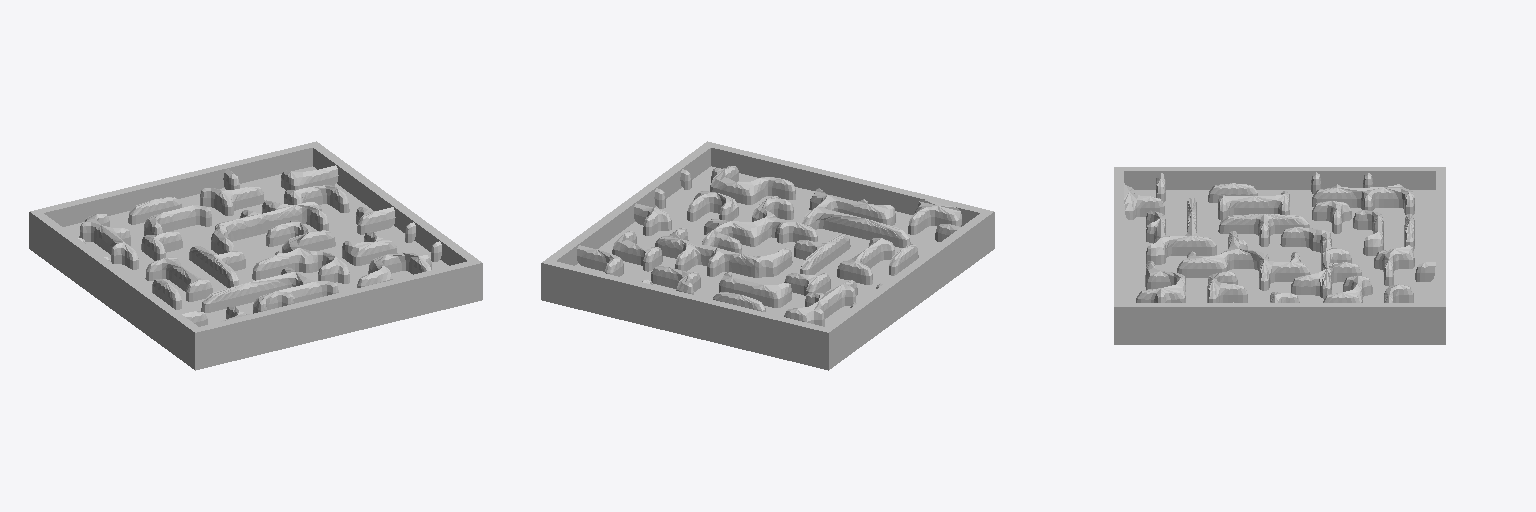
Rendered from lab8.obj.
The picture shows the model from 3 angles: view 1: azimuth 30°, elevation 25°; view 2: azimuth 150°, elevation 25°; view 3: azimuth 270°, elevation 25°; orthographic projection.
Parts seen in each view (by area): view 1: Plane; view 2: Plane; view 3: Plane.
Boxes of the visible parts, <box> form: Plane: <box>29,141,482,370</box>; Plane: <box>541,141,994,370</box>; Plane: <box>1114,167,1445,344</box>.
Size of the model in its own units: 16 by 2 by 16.